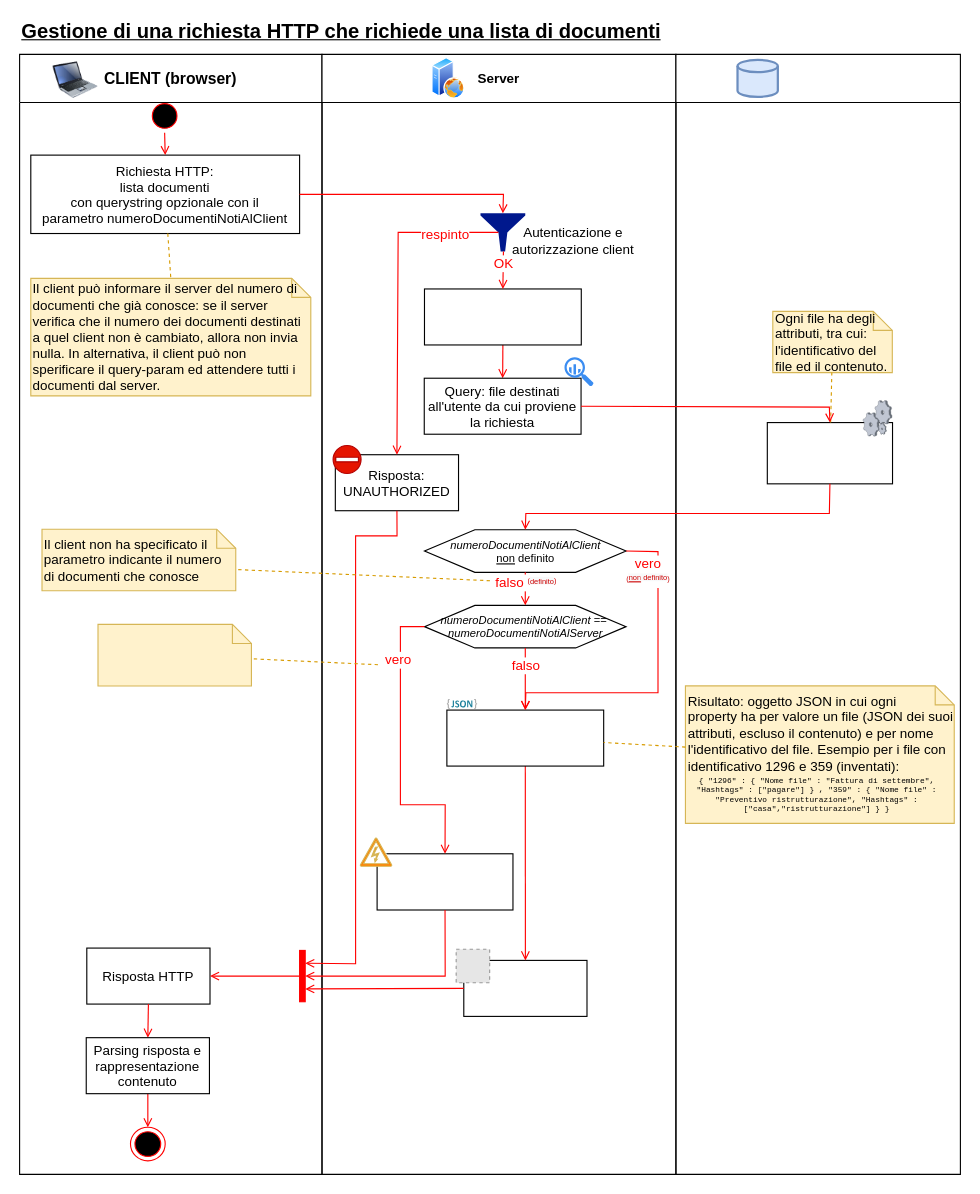
Image size: 980x1194. Some labels were removed from this diagram. Grey dashed boxes stand in for pictures. The box of each missing label's shape, as (x1, y1, x2, y2) in pixels:
Costruisci JSON: (446, 709, 604, 766)
Database: (675, 53, 960, 1174)
Non ci sono nuovi documenti per il client.: (97, 623, 251, 686)
Recupera file richiesti: (766, 421, 893, 484)
Recupera informazioni dell'utente: (423, 288, 581, 345)
Risposta del server in JSON: (463, 959, 587, 1016)
Risposta: 304 NOT_MODIFIED: (376, 853, 513, 910)
